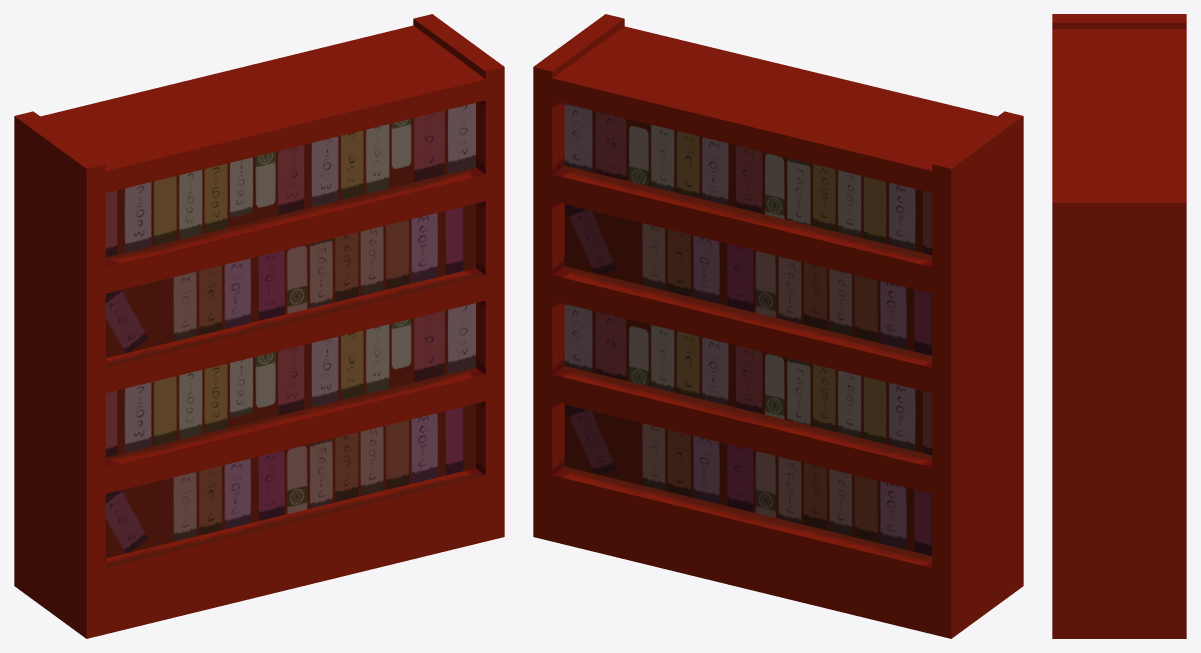
The model's file is hondanaB.fbx.
The picture shows the model from 3 angles, left to right: view 1: azimuth 30°, elevation 25°; view 2: azimuth 150°, elevation 25°; view 3: azimuth 270°, elevation 25°; orthographic projection. The views are drawn at different scales.
Visible parts, largest first — view 1: Cube2; view 2: Cube2; view 3: Cube2.
Part boxes in pixels (x1,y1,x2,y2): Cube2: (14,14,504,638); Cube2: (533,14,1023,638); Cube2: (1052,14,1186,638).
Size of the model in its own units: 628 by 675 by 188.
